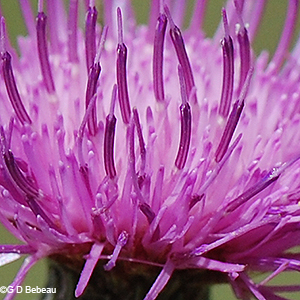thistle: (1, 1, 300, 299)
